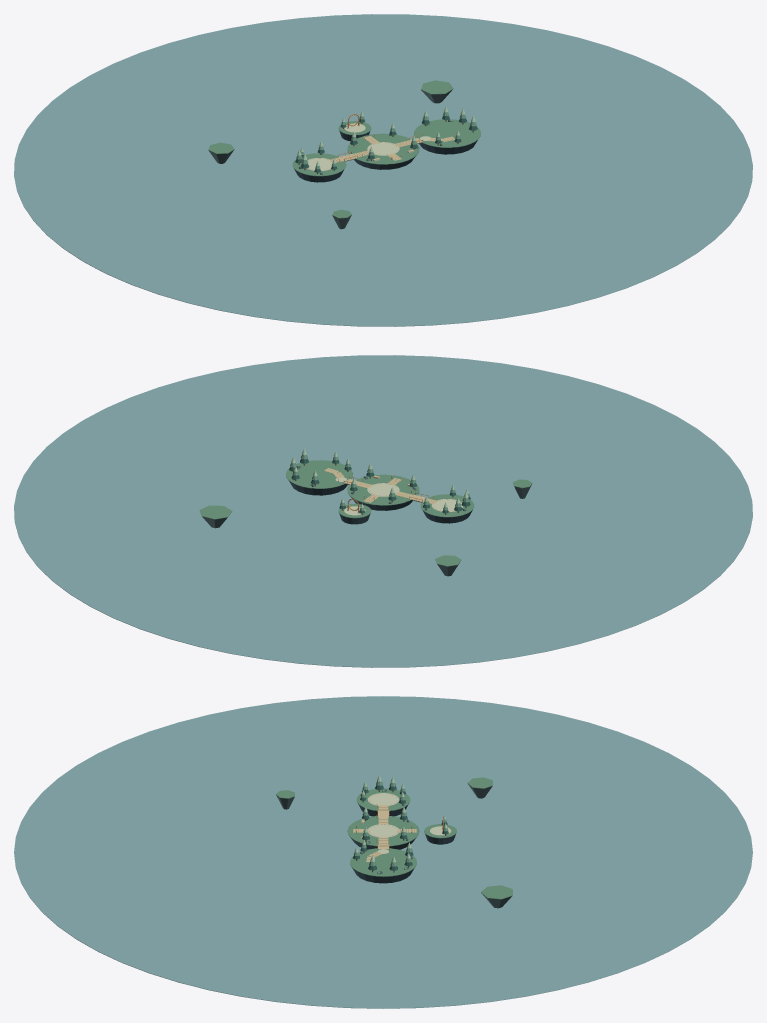
The model's file is island-scenery.glb.
3 views of the same model, one above another, from view 1: azimuth 30°, elevation 25°; view 2: azimuth 150°, elevation 25°; view 3: azimuth 270°, elevation 25° (orthographic).
Parts seen in each view (by area): view 1: Workshop island scenery; view 2: Workshop island scenery; view 3: Workshop island scenery.
Part boxes in pixels (left/top/right/bottom): Workshop island scenery: left=14, top=14, right=752, bottom=326; Workshop island scenery: left=14, top=355, right=752, bottom=667; Workshop island scenery: left=14, top=696, right=752, bottom=1008.
Size of the model in its own units: 220 by 12.77 by 220.
